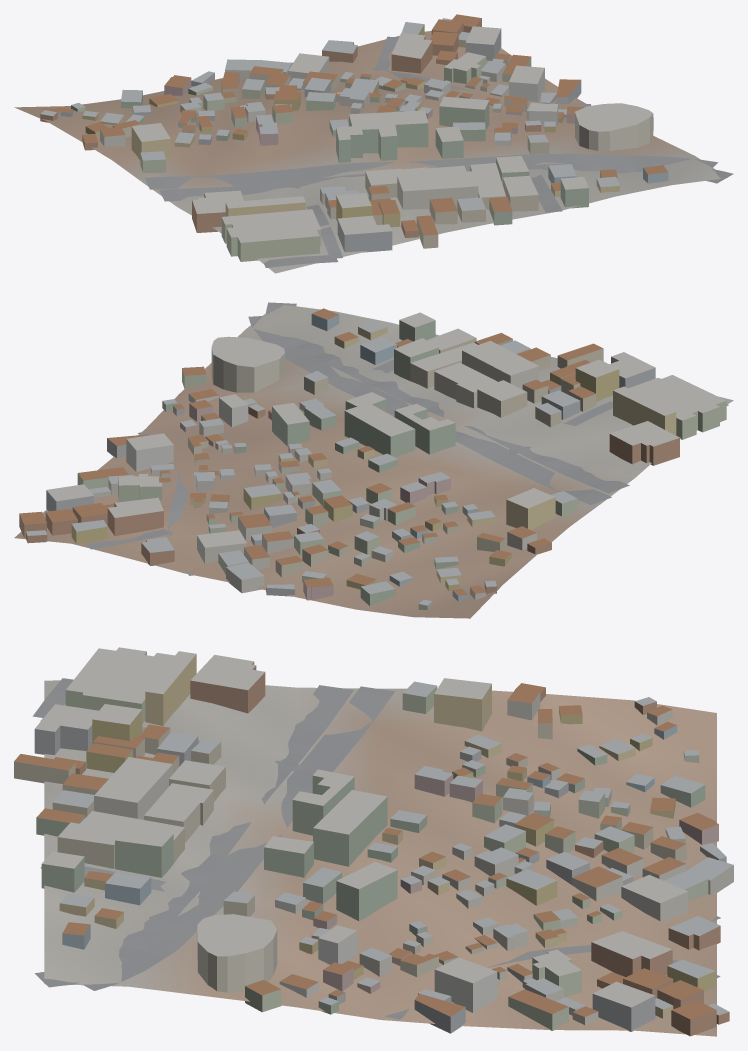
The picture shows the model from 3 angles, top to bottom: view 1: azimuth 30°, elevation 25°; view 2: azimuth 150°, elevation 25°; view 3: azimuth 270°, elevation 25°; orthographic projection. The views are drawn at different scales.
Parts seen in each view (by area): view 1: Lo; view 2: Lo; view 3: Lo.
Part boxes in pixels (<box>): Lo: <box>14,14,733,273</box>; Lo: <box>14,302,733,618</box>; Lo: <box>14,647,733,1036</box>.
Size of the model in its own units: 271 by 44.21 by 274.
